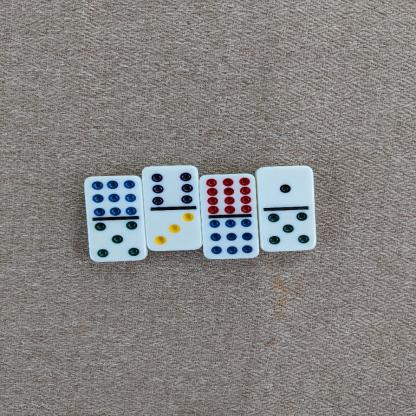pip-1: (255, 165, 315, 208)
pip-12: (199, 172, 256, 216)
pip-3: (143, 206, 202, 250)
pip-5: (86, 218, 146, 262), (259, 208, 316, 251)
pip-6: (141, 165, 199, 208)
pip-9: (203, 215, 259, 259), (83, 175, 141, 217)
